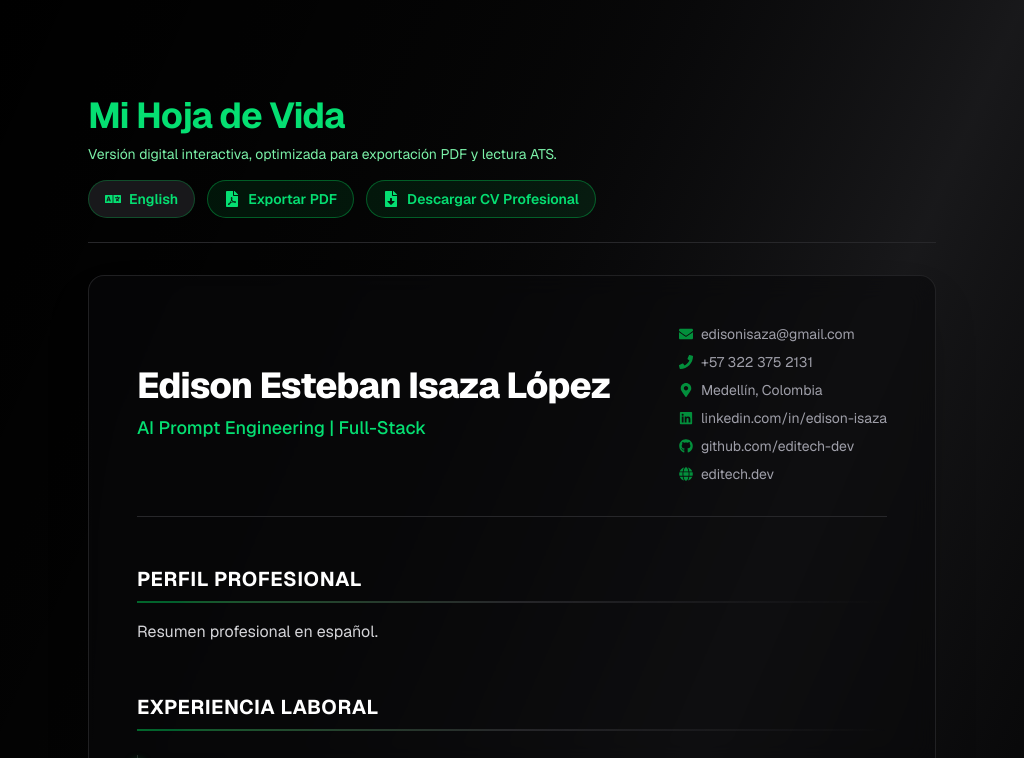
CvClientPage › can switch back from EN to ES
The image size is (1024, 758).
Click the button with aria-label "switch to english": point(142, 199) [88, 180, 195, 218]
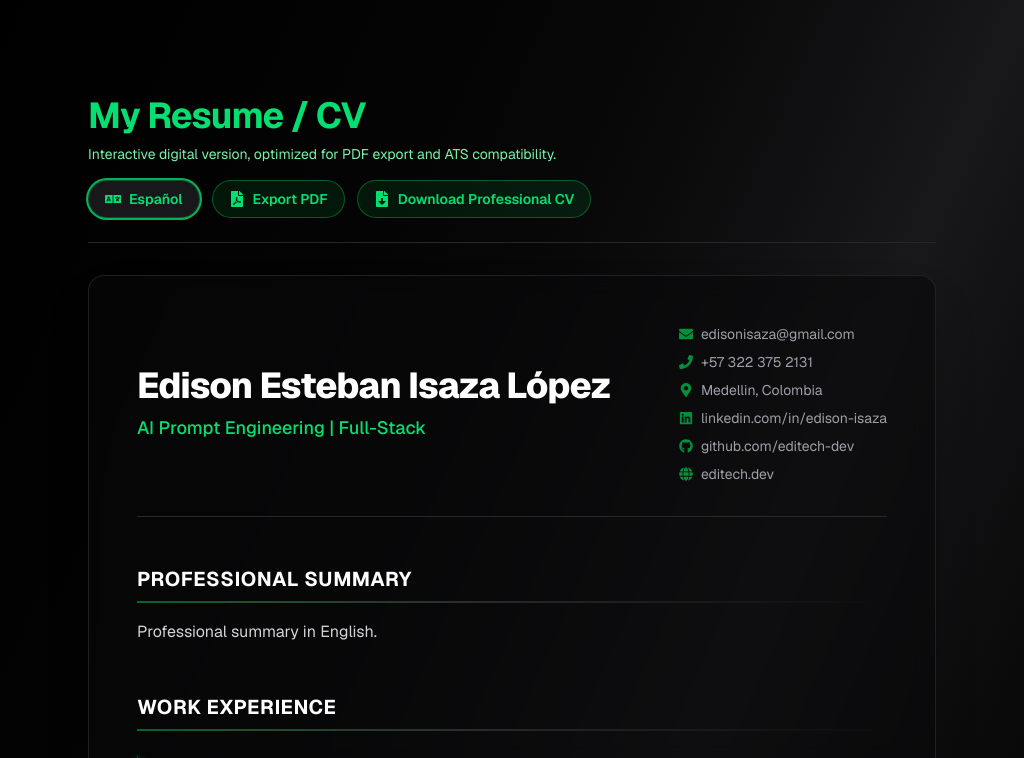
Check: the heading "Professional Summary" is shown, box [137, 566, 412, 592]
Check: the button with aria-label "cambiar a español" reads "Español"
Click the button with aria-label "cambiar a español": point(144, 199) [88, 180, 200, 218]
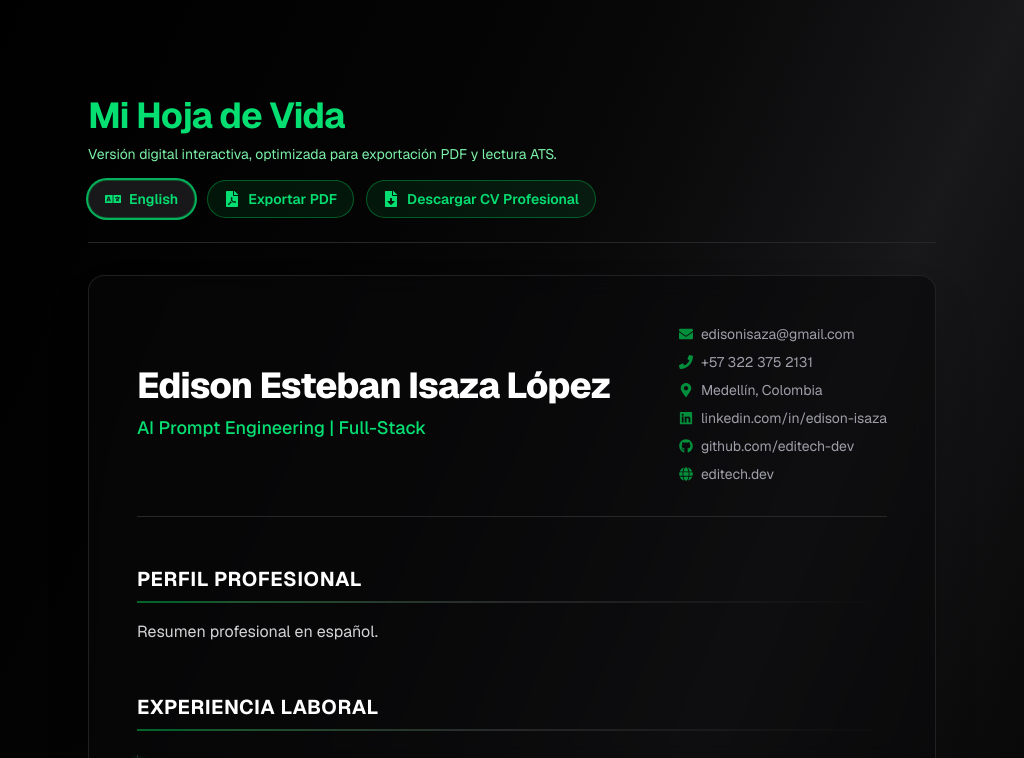
Check: the heading "Perfil Profesional" is shown, box [137, 566, 362, 592]
